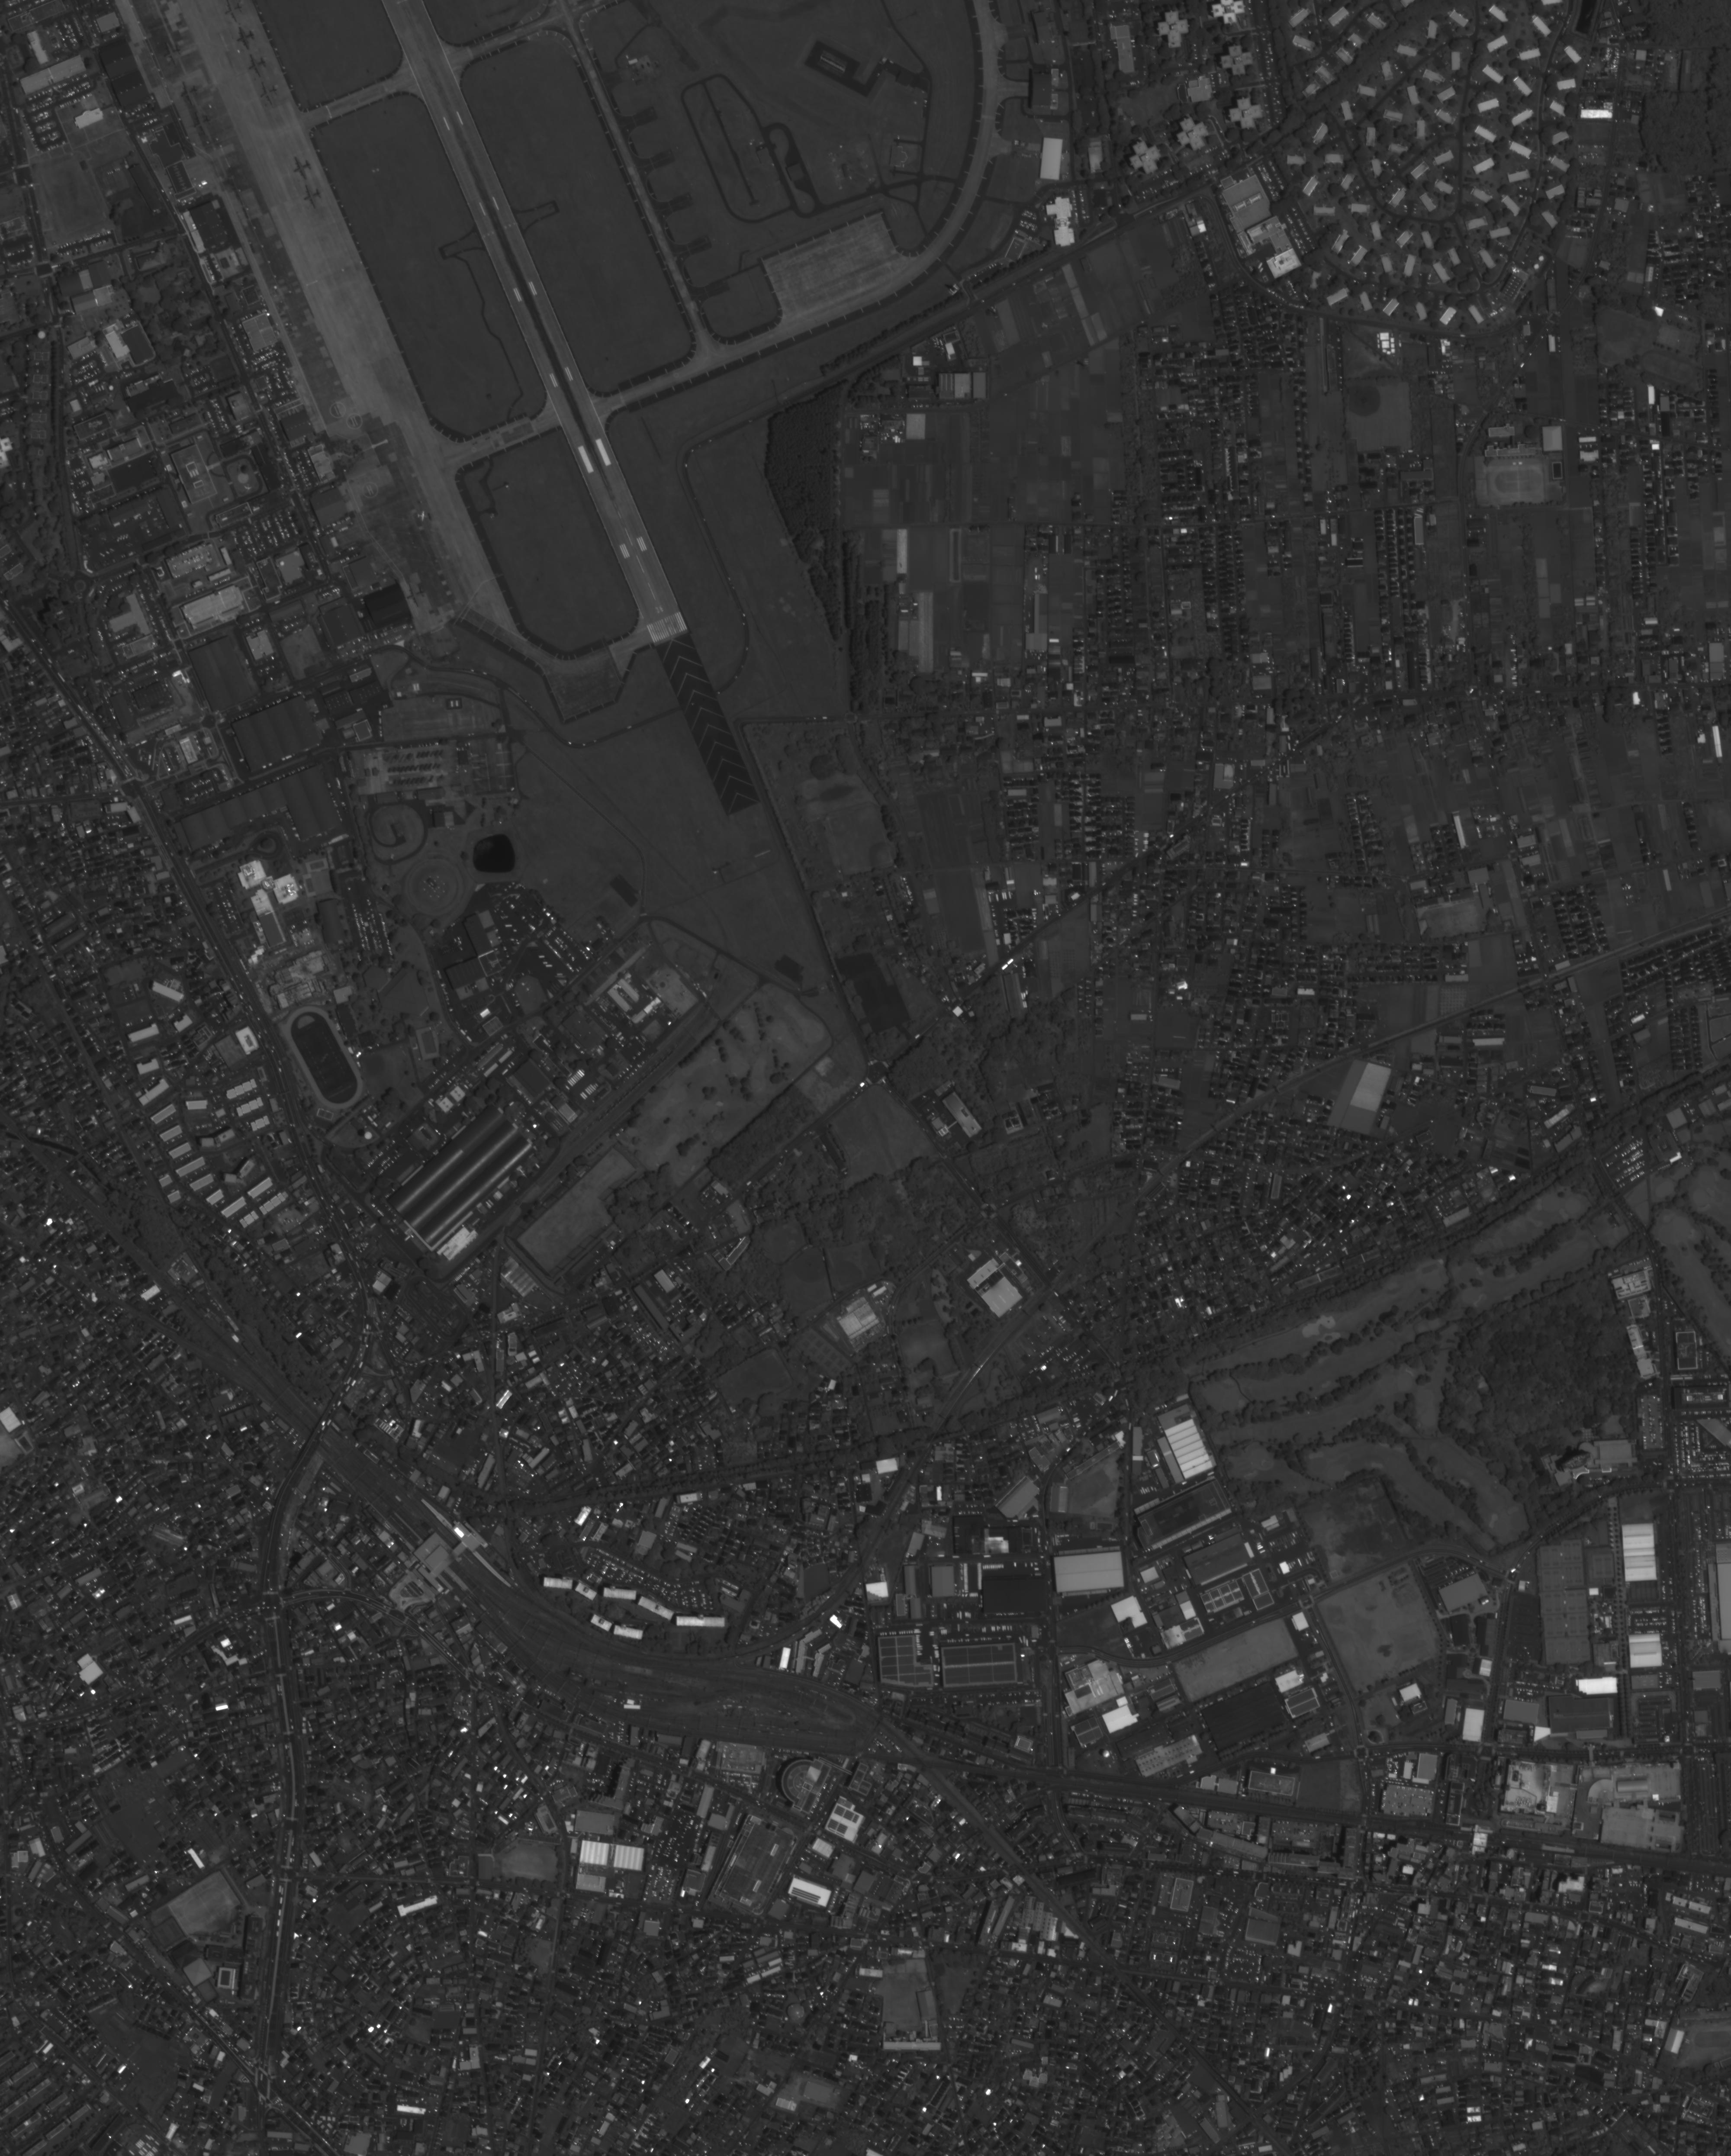plane: (297, 182, 327, 212), (175, 78, 203, 109), (187, 109, 215, 139), (288, 154, 316, 184), (159, 39, 185, 69), (244, 51, 270, 81), (233, 23, 260, 53), (256, 79, 283, 108), (221, 2, 246, 25), (417, 510, 429, 524)
